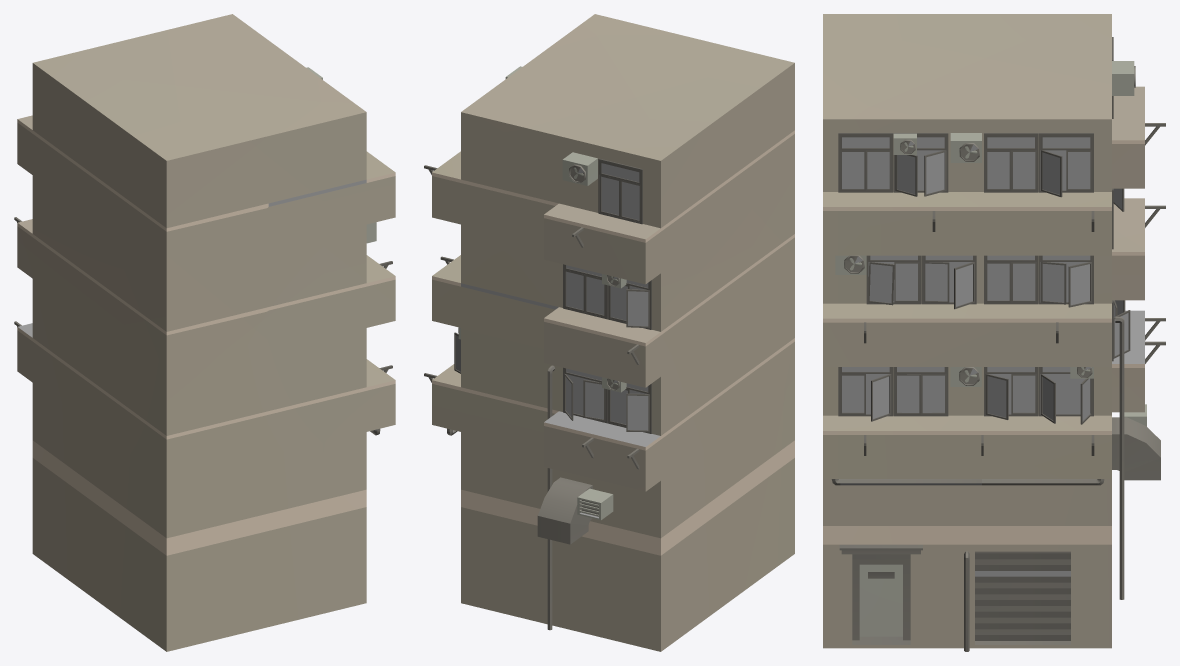
Rendered from apt_rando_right.fbx.
3 renders of one model, left to right at view 1: azimuth 30°, elevation 25°; view 2: azimuth 150°, elevation 25°; view 3: azimuth 270°, elevation 25°, orthographic. The views are drawn at different scales.
Visible parts, largest first — view 1: polySurface2394; view 2: polySurface2394, polySurface2483, polySurface2476, polySurface2386, polySurface2416, polySurface2402, polySurface2381, polySurface2447, polySurface2478, polySurface2466, polySurface2391, polySurface2441 (+4 smaller); view 3: polySurface2394, polySurface2472, polySurface2474, polySurface2483, polySurface2475, polySurface2476, polySurface2427, polySurface2439, polySurface2343, polySurface2455, polySurface2378, polySurface2346 (+35 smaller).
Boxes of the visible parts, box(x1,y1,x2,y2) form: polySurface2394: box(17, 14, 395, 651); polySurface2394: box(432, 14, 794, 651); polySurface2483: box(537, 477, 592, 544); polySurface2476: box(547, 365, 555, 630); polySurface2386: box(626, 289, 649, 328); polySurface2416: box(626, 393, 649, 432); polySurface2402: box(583, 379, 605, 421); polySurface2381: box(563, 367, 607, 423); polySurface2447: box(598, 158, 642, 224); polySurface2478: box(577, 488, 613, 520); polySurface2466: box(620, 180, 640, 222); polySurface2391: box(564, 269, 584, 312); polySurface2441: box(600, 175, 620, 217); polySurface2394: box(823, 14, 1144, 648); polySurface2472: box(975, 551, 1070, 640); polySurface2474: box(859, 564, 902, 636); polySurface2483: box(1112, 417, 1160, 480); polySurface2475: box(831, 479, 1104, 485); polySurface2476: box(1115, 316, 1124, 599); polySurface2427: box(1039, 367, 1093, 416); polySurface2439: box(1039, 133, 1093, 192); polySurface2343: box(838, 133, 893, 192); polySurface2455: box(893, 133, 948, 192); polySurface2378: box(923, 262, 949, 303); polySurface2346: box(985, 150, 1011, 190).
Size of the model in its own units: 59.4 by 114 by 66.72.
2 materials, 1 textured.
